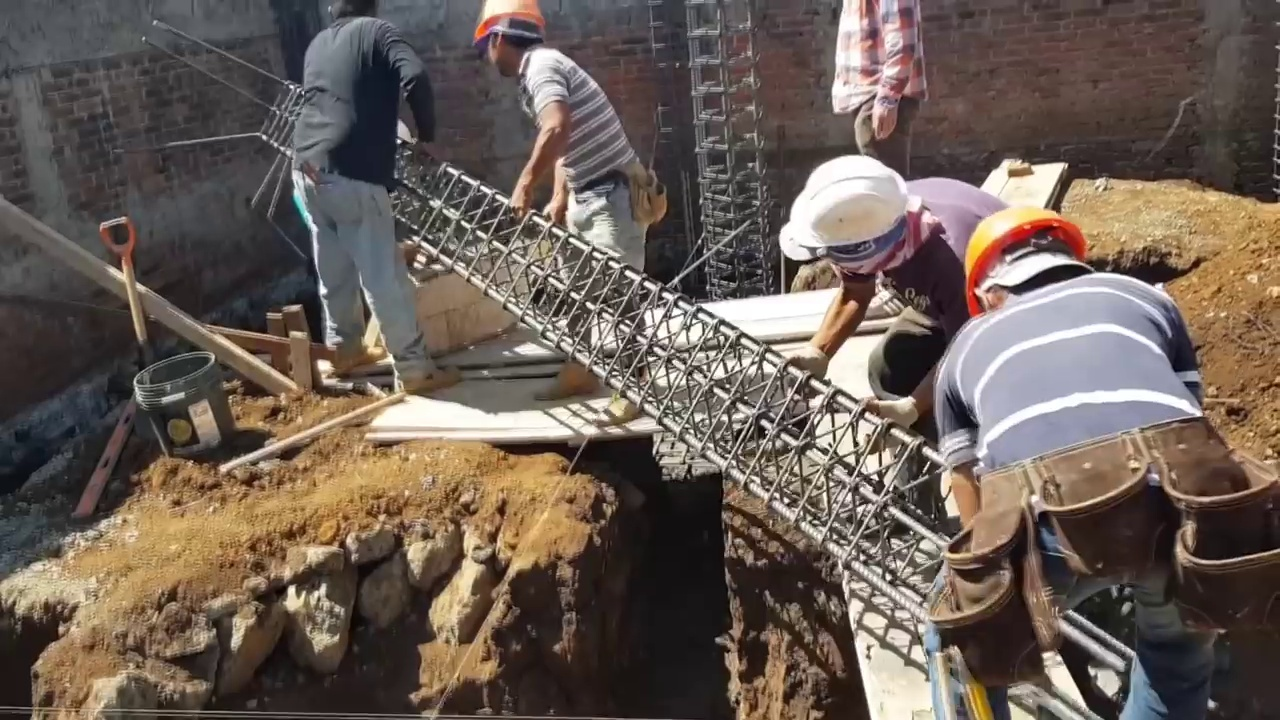helmet: (961, 209, 1097, 314), (784, 155, 910, 253), (913, 183, 1008, 254), (471, 0, 548, 45)
helmet-on: (783, 151, 941, 284), (966, 204, 1111, 325), (470, 0, 550, 81)
person: (912, 210, 1279, 688), (768, 158, 973, 553), (470, 0, 650, 406), (282, 0, 438, 387), (831, 0, 932, 164)
